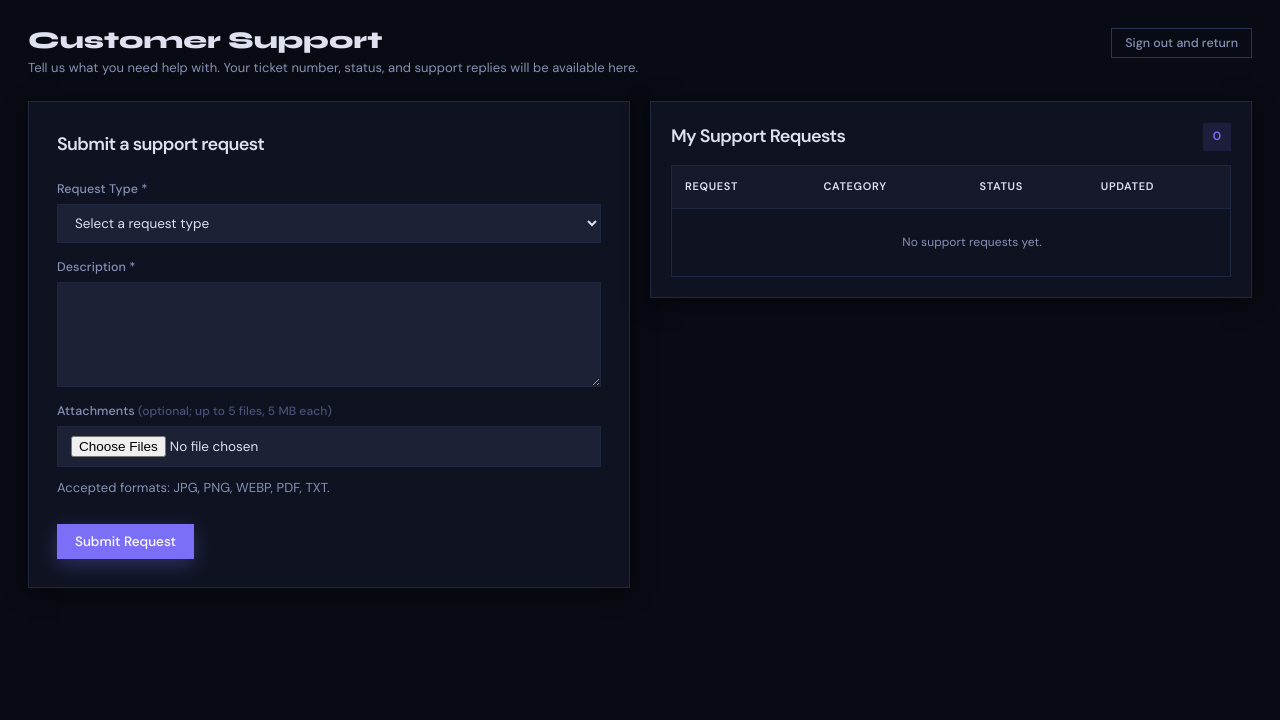
React Customer Support › retains drafts and attachment selections after a failed save
Select "Payment Issues" in the dropdown labelled "Request Type *": x=329, y=224 left=57, top=204, right=601, bottom=243
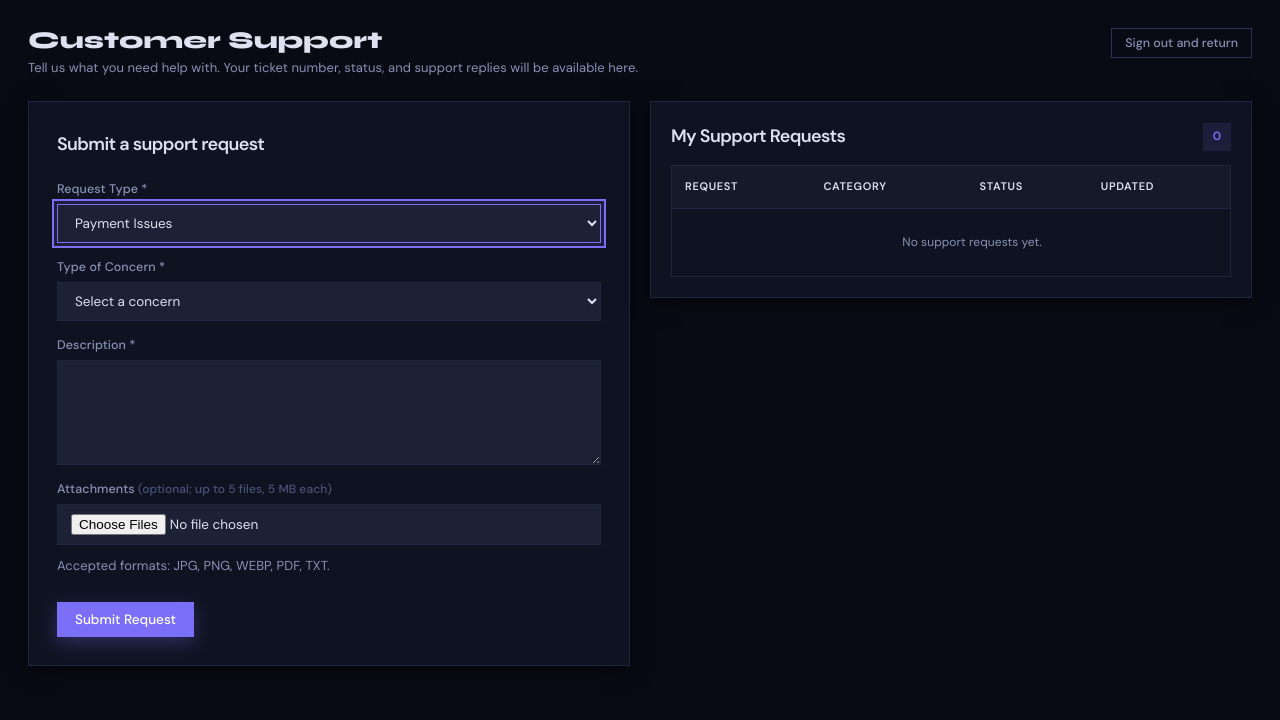
Select "Payment is not working" in the dropdown labelled "Type of Concern *": x=329, y=302 left=57, top=282, right=601, bottom=321
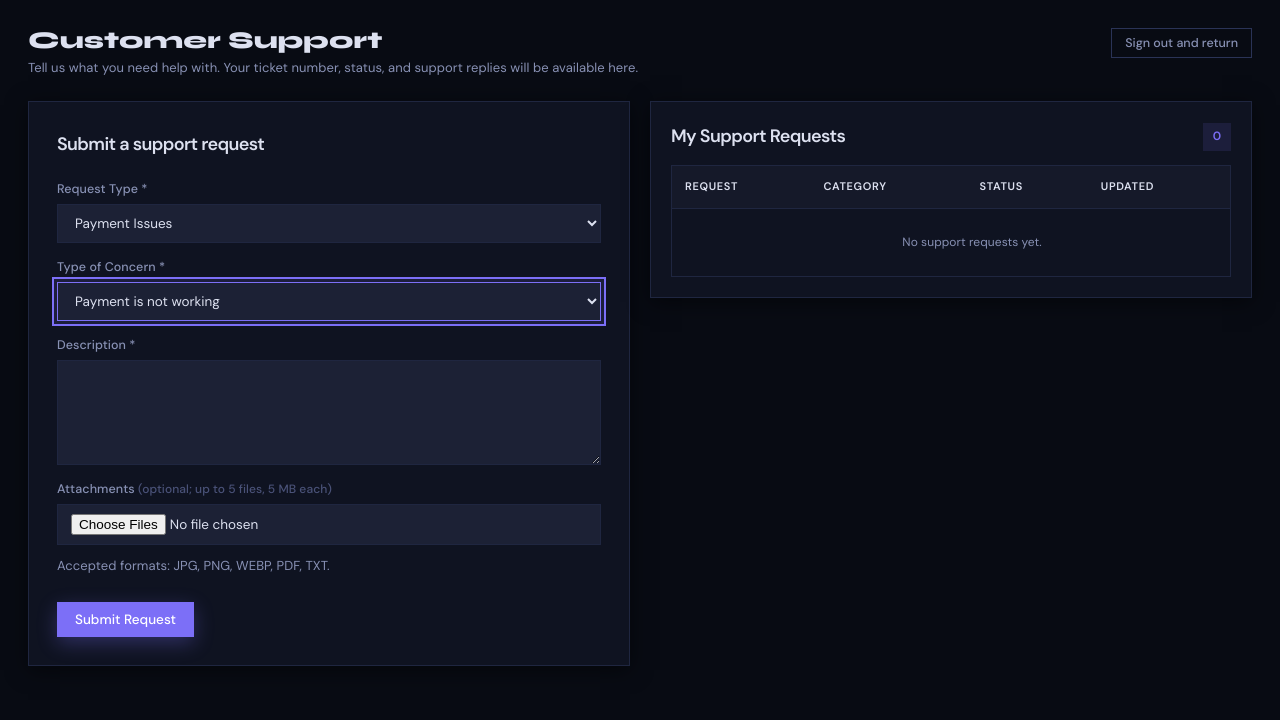
In the text box labelled "Description *": x=329, y=412 left=57, top=360, right=601, bottom=465, type "Please check my payment."
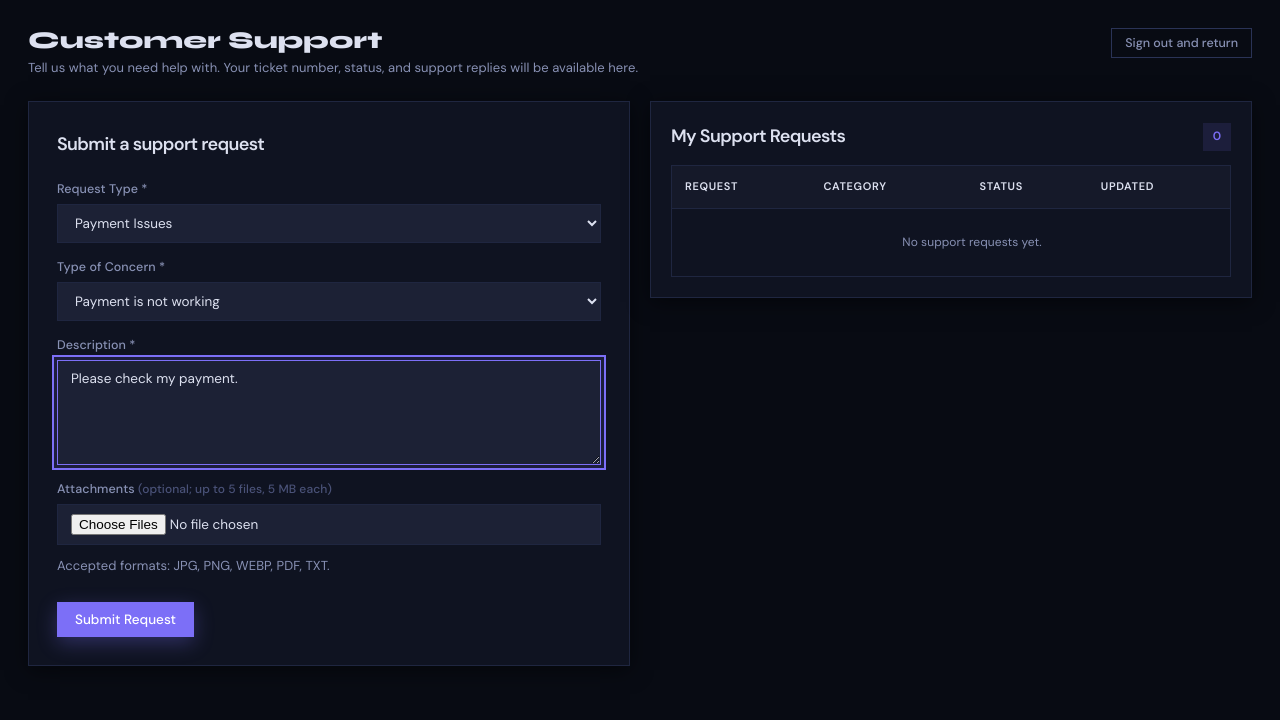
Click the button "Submit Request": x=126, y=620 left=57, top=602, right=194, bottom=637
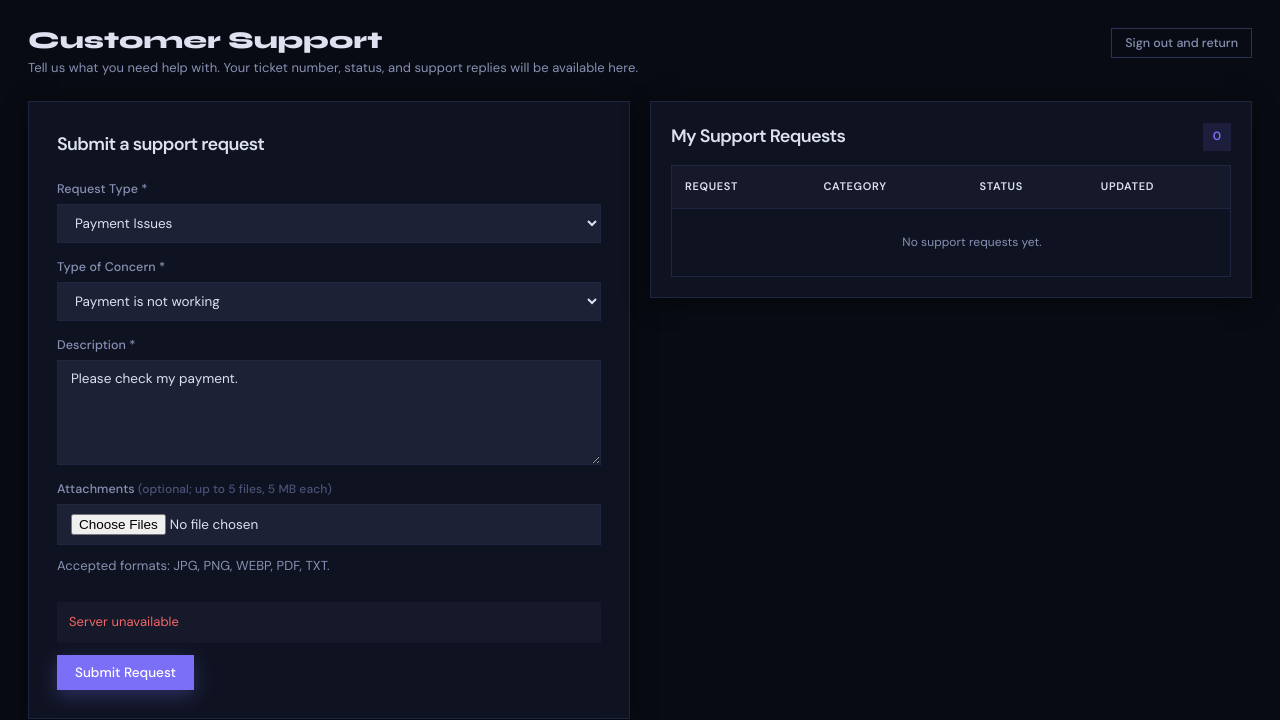
Expected: the button "Submit Request" is enabled, left=57, top=655, right=194, bottom=690
Expected: the text "Server unavailable" is shown, left=57, top=602, right=601, bottom=643
